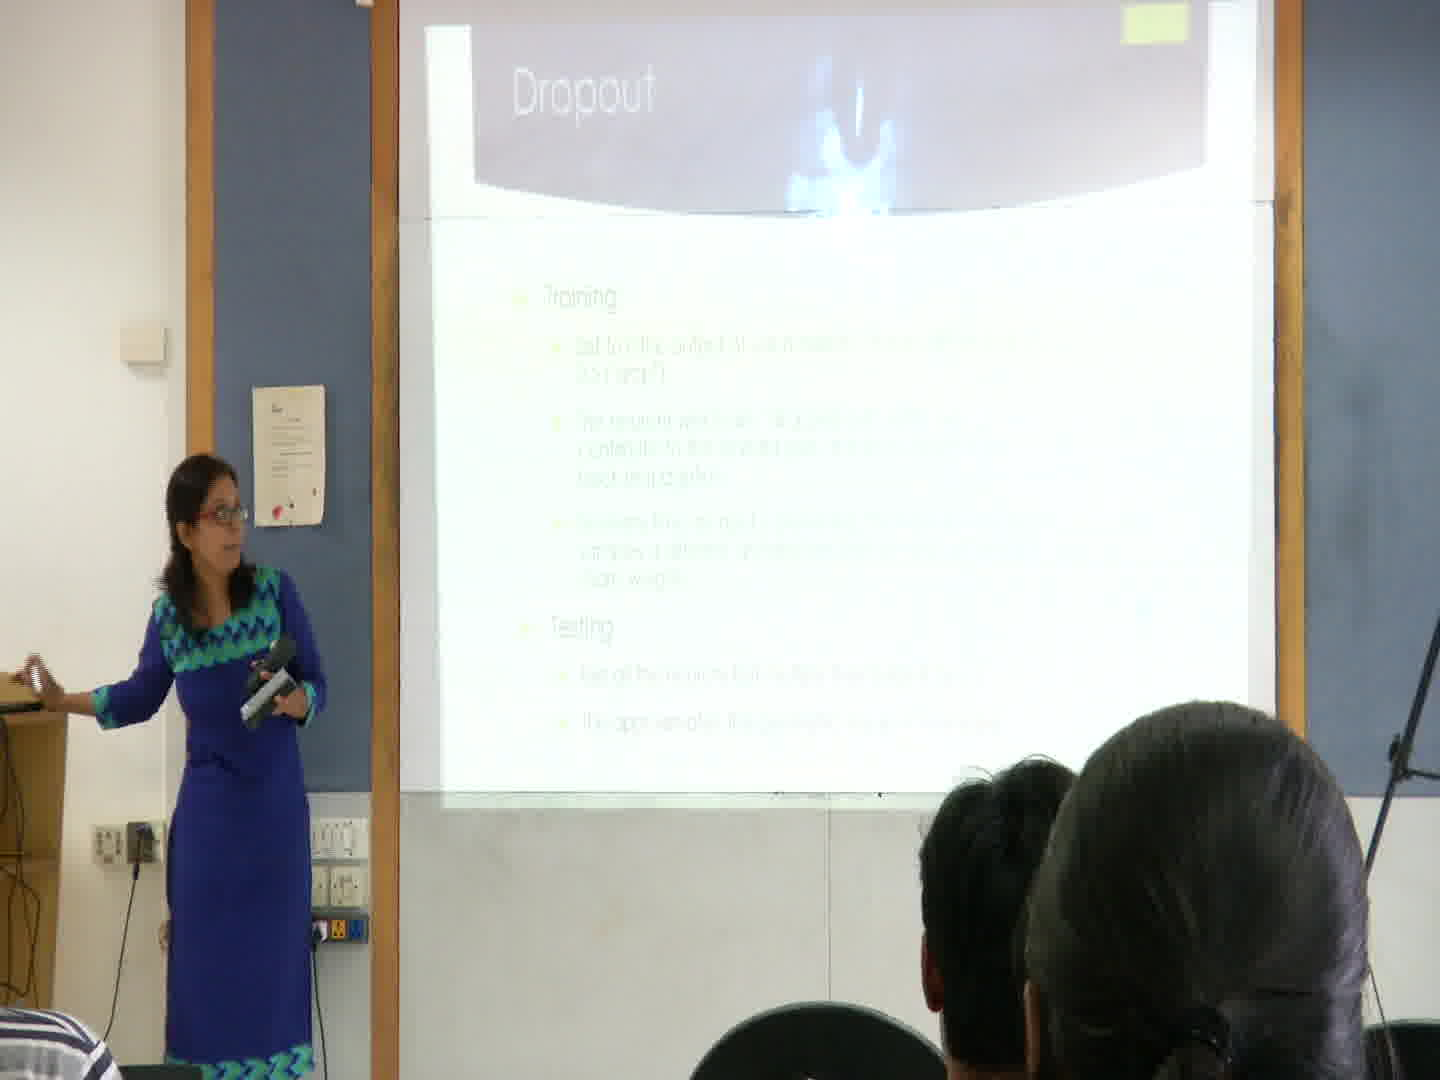slide: (423, 3, 1254, 804)
